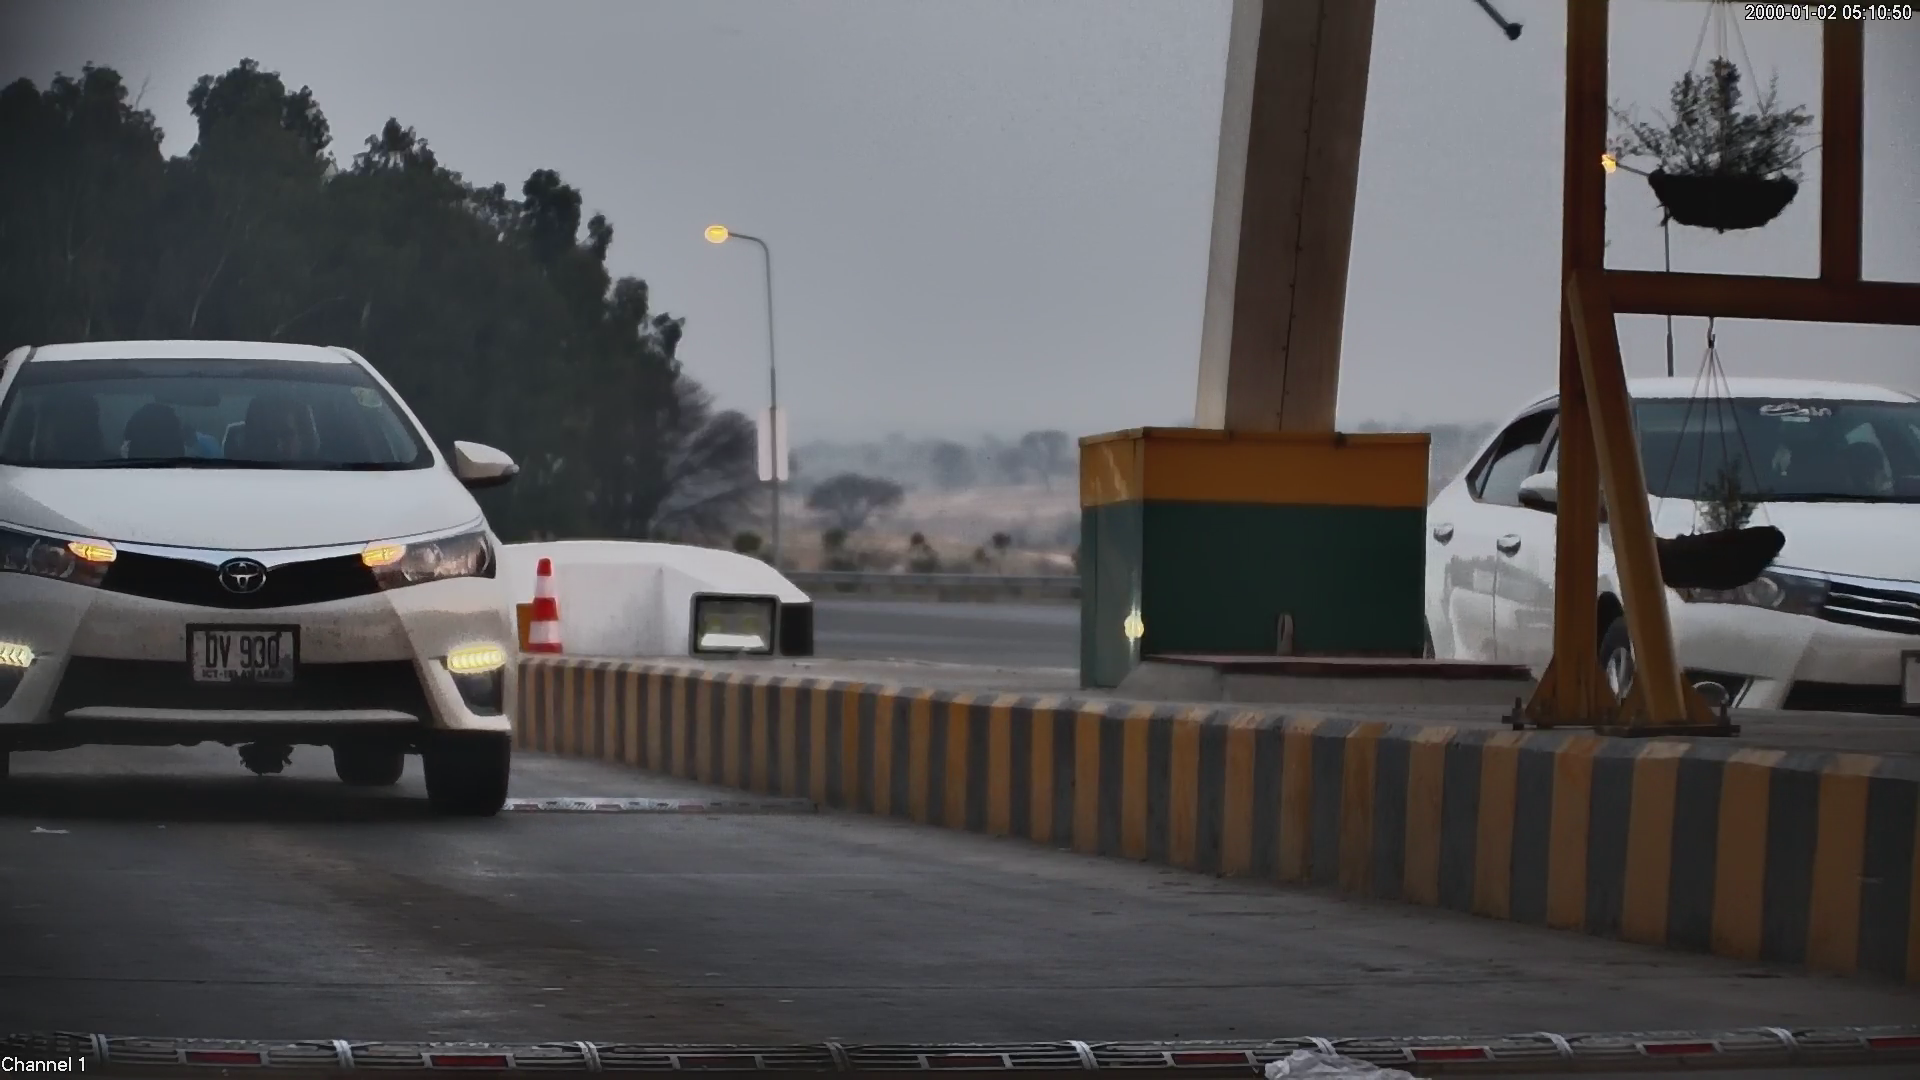Number_Plate: (171, 611, 308, 701)
